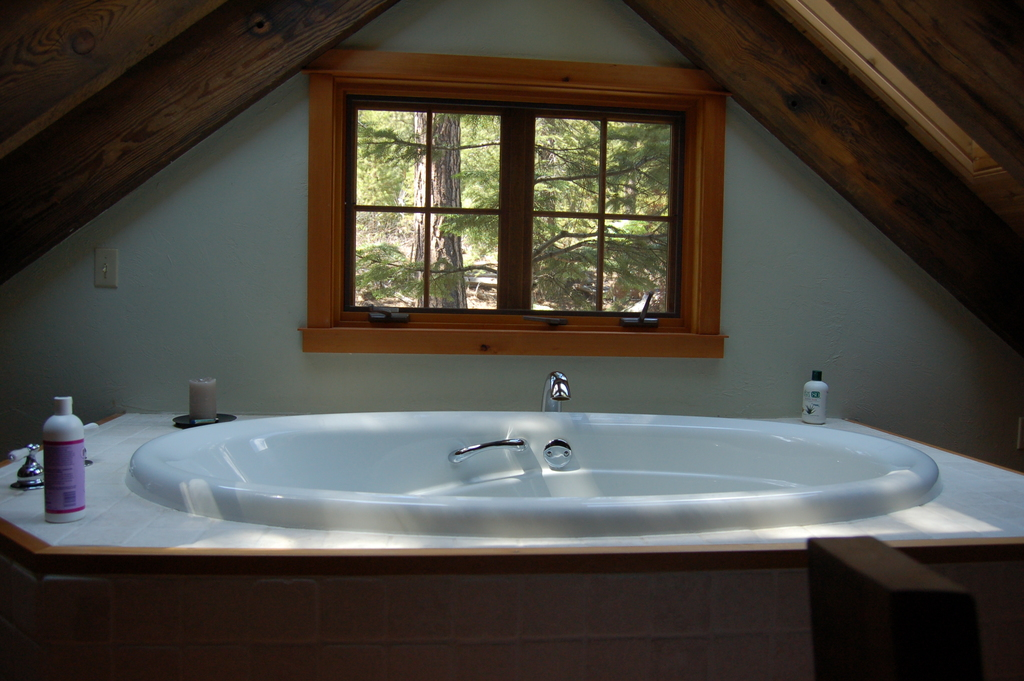tap: (538, 367, 571, 415)
